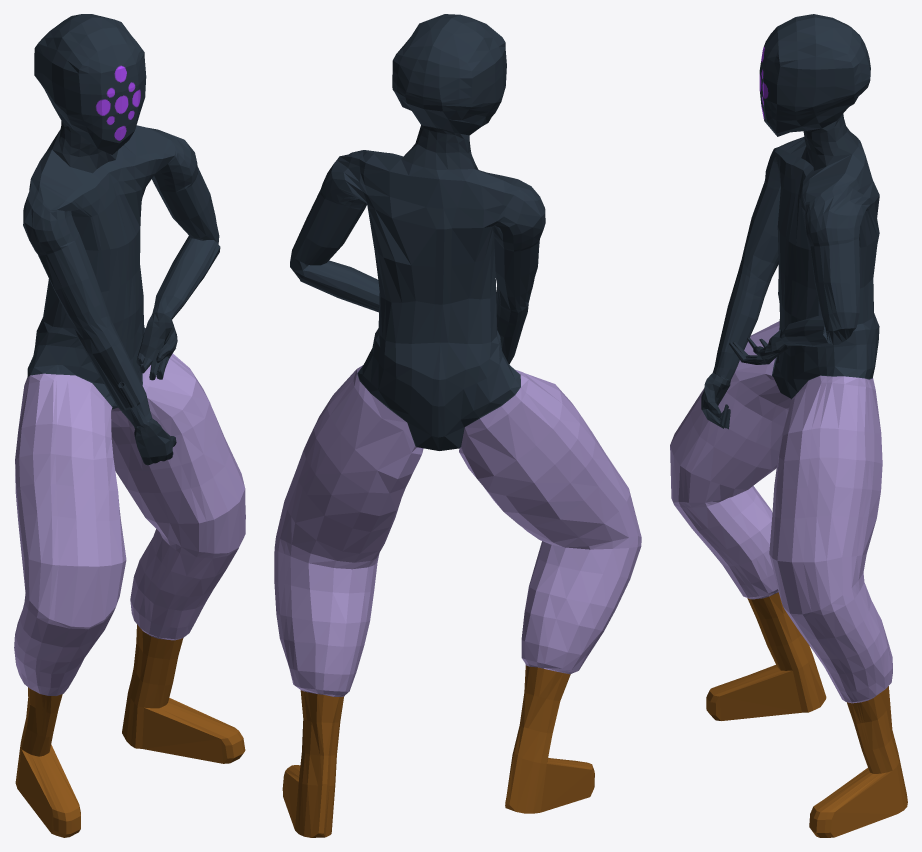
The model's file is Oracle_WL_000018.obj.
3 views of the same model, side by side, from view 1: azimuth 30°, elevation 25°; view 2: azimuth 150°, elevation 25°; view 3: azimuth 270°, elevation 25° (orthographic). The views are drawn at different scales.
Visible parts, largest first — view 1: Cube; view 2: Cube; view 3: Cube.
Boxes of the visible parts, left/top/right/bottom form: Cube: left=14, top=14, right=245, bottom=837; Cube: left=274, top=14, right=641, bottom=837; Cube: left=670, top=14, right=907, bottom=837.
Bounding box in the file's own units: 1.42 × 3.78 × 1.09.
